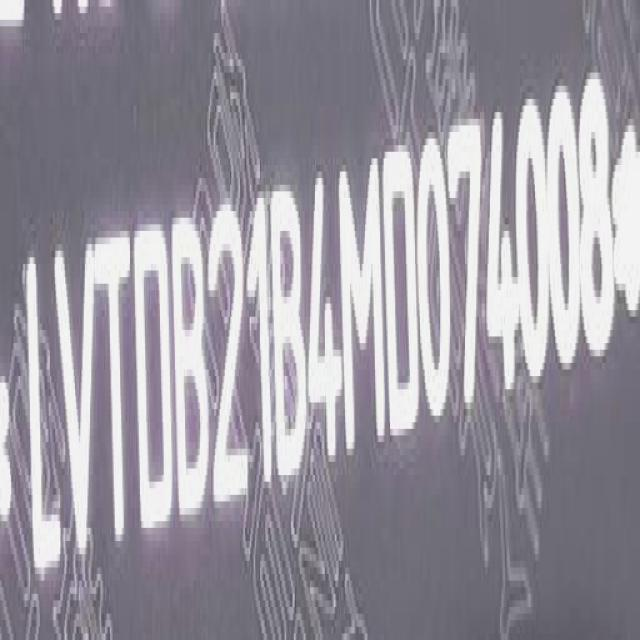0: (547, 85, 583, 379), (417, 130, 451, 437), (518, 91, 550, 389)
1: (250, 178, 273, 504)
2: (212, 186, 248, 514)
4: (308, 166, 346, 472), (488, 99, 526, 402)
7: (448, 117, 486, 432)
8: (578, 67, 614, 372)
B: (176, 210, 214, 529), (275, 175, 309, 486)
D: (134, 214, 174, 544), (386, 143, 422, 450)
L: (21, 253, 60, 598)
M: (343, 150, 386, 459)
T: (94, 222, 131, 545)
V: (54, 236, 100, 578)
